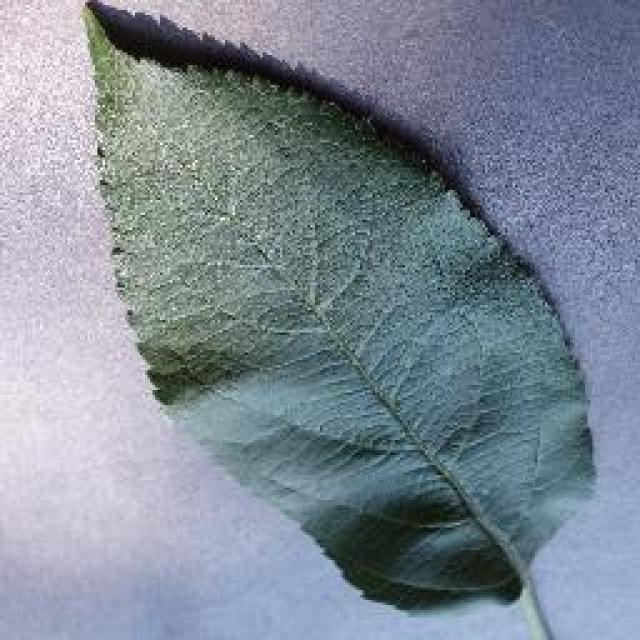apple healthy: (77, 0, 604, 632)
